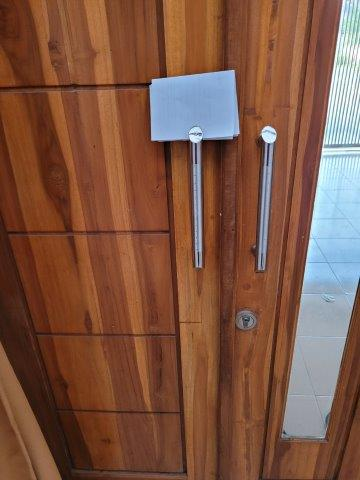kertas: (149, 71, 242, 142)
